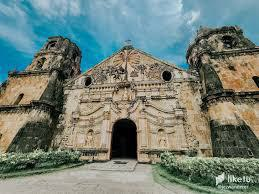miagao_church_miagao_iloilo: (1, 26, 259, 160)
